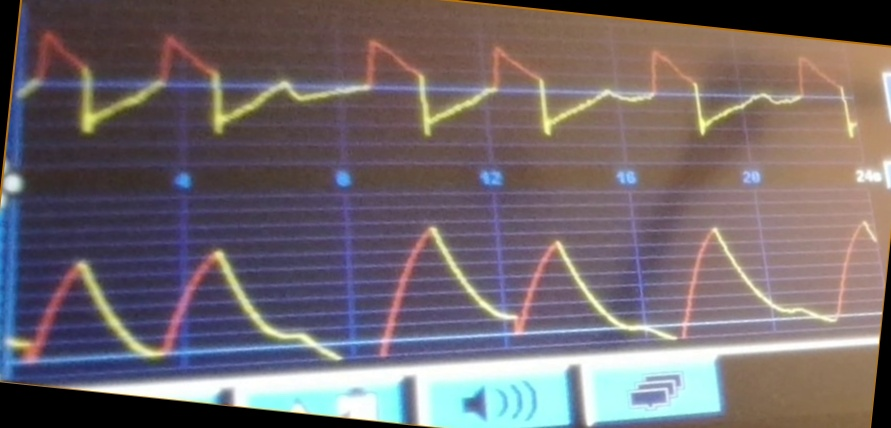Ineffective_effort Flow: (25, 27, 856, 157)
Ineffective_effort Volume: (10, 219, 877, 367)
